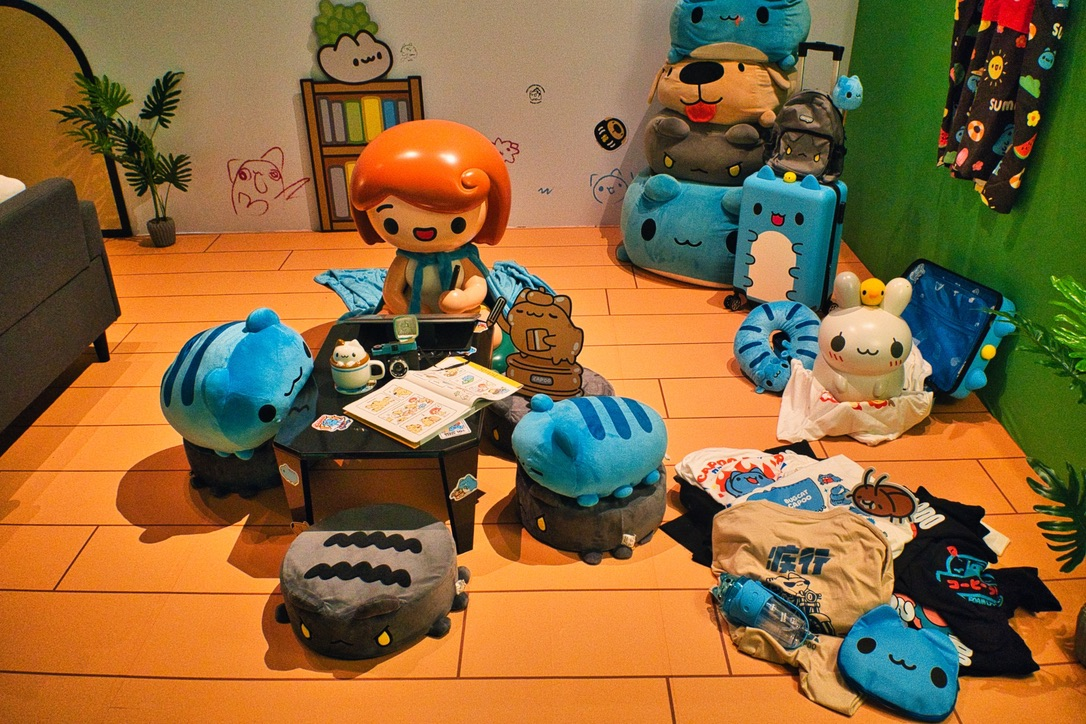Capoo: (517, 399, 630, 495), (210, 320, 311, 424), (852, 611, 950, 696), (743, 173, 826, 250)
